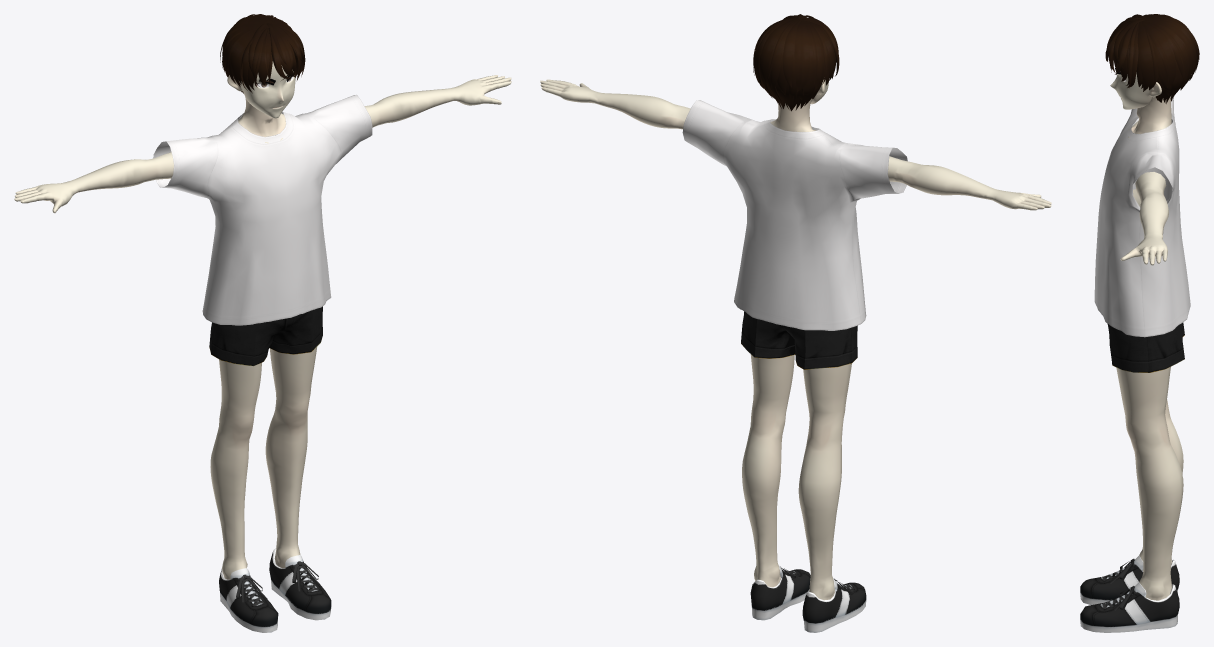
File: Adult Male.fbx
3 views of the same model, side by side, from view 1: azimuth 30°, elevation 25°; view 2: azimuth 150°, elevation 25°; view 3: azimuth 270°, elevation 25° (orthographic). The views are drawn at different scales.
Parts seen in each view (by area): view 1: Body; view 2: Body; view 3: Body.
Boxes of the visible parts, <box> form: Body: <box>14,14,511,632</box>; Body: <box>540,14,1051,632</box>; Body: <box>1080,14,1199,632</box>.
Size of the model in its own units: 1.67 by 1.86 by 0.3387.
Materials: 12 (12 with a texture image).
